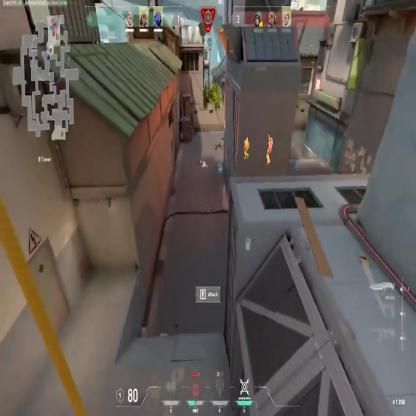enemy: (266, 134, 274, 166), (244, 136, 249, 160)
enemy_head: (245, 136, 249, 141), (268, 136, 271, 141)
